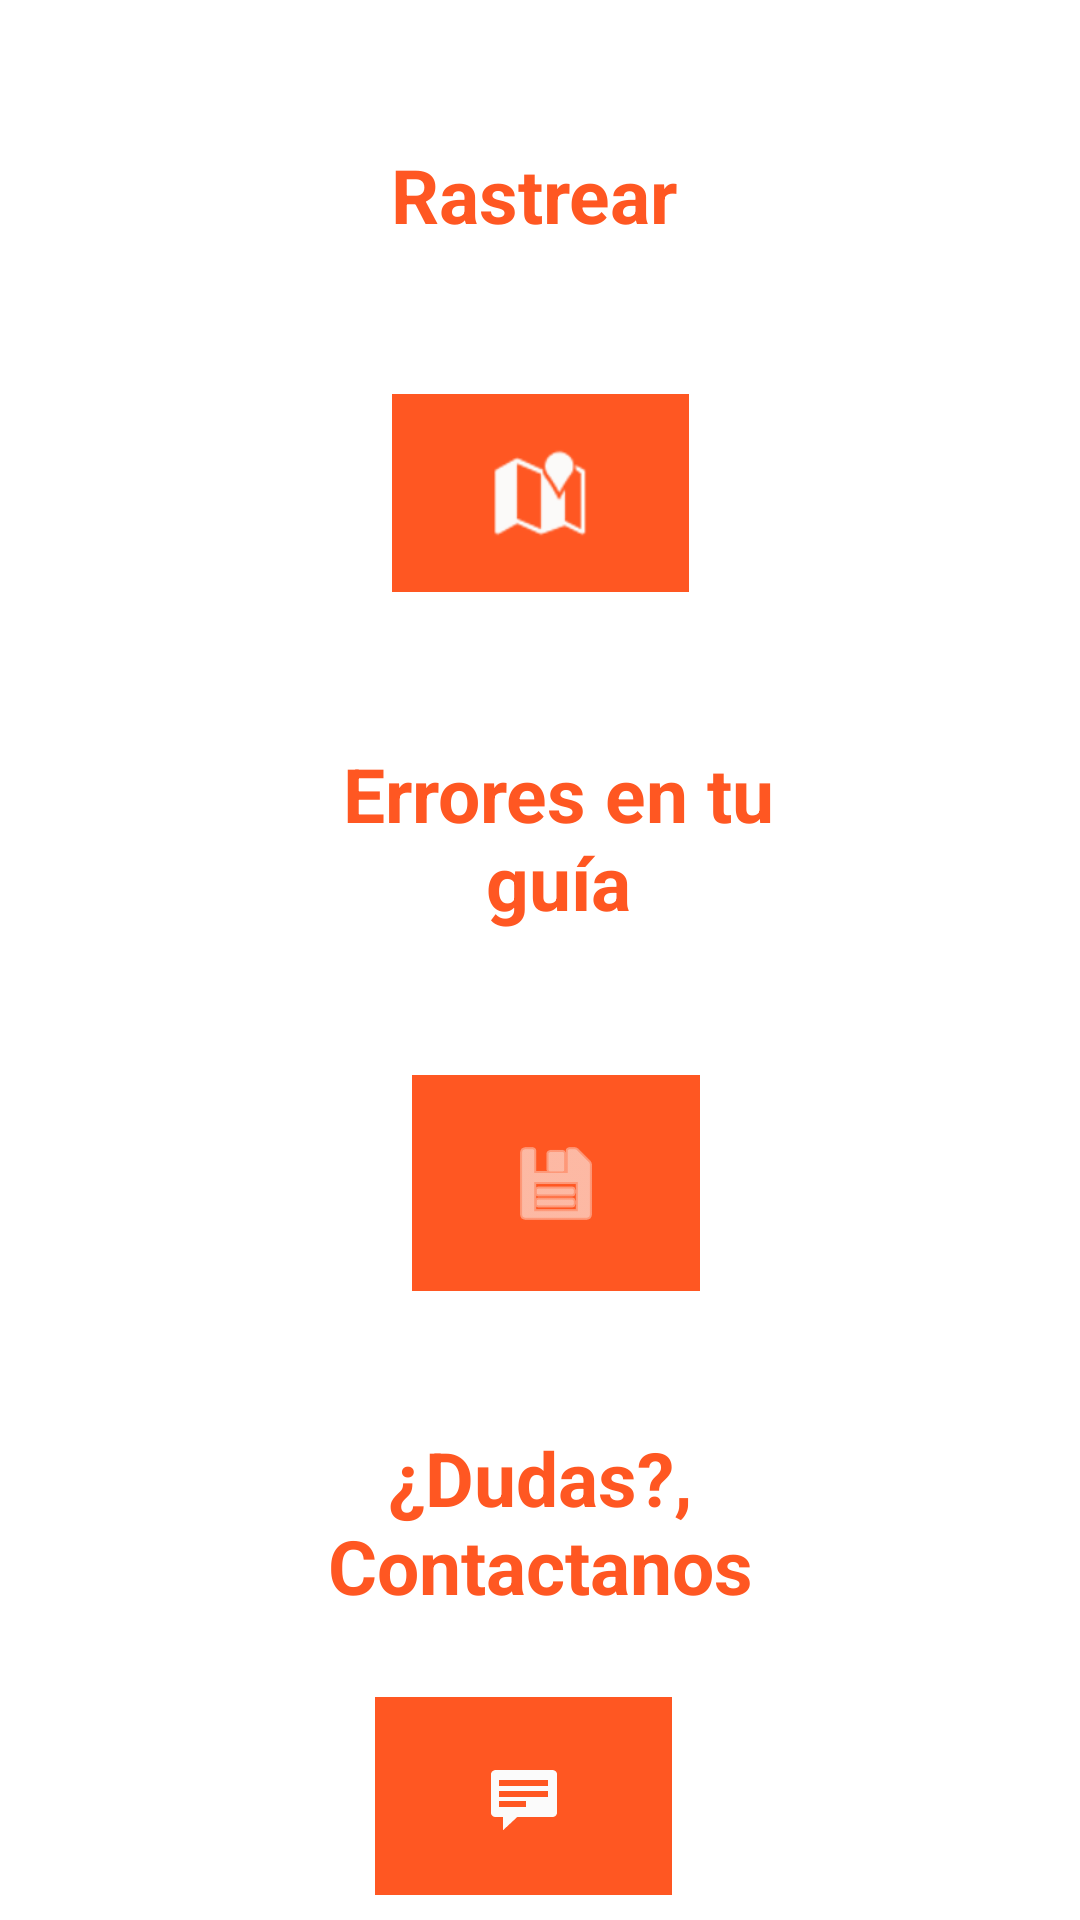

Icon click points for this 1080px×1920px phone screenshot, format point (x, y):
chat: point (523, 1796)
map: point (540, 493)
save: point (556, 1183)
